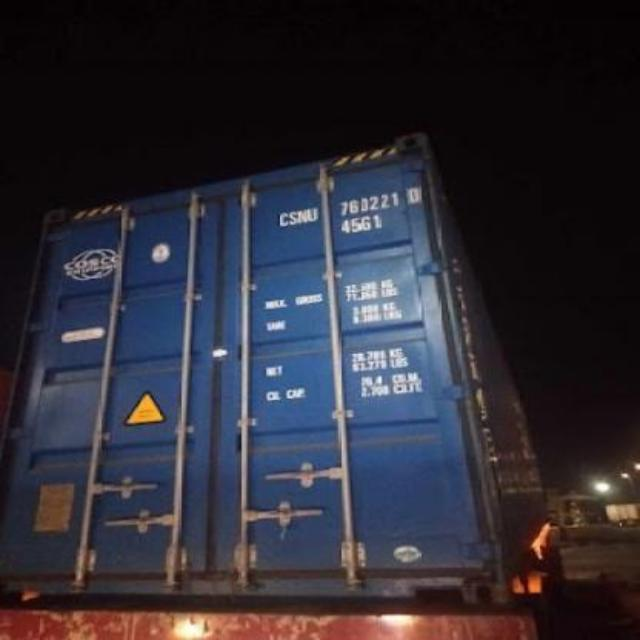0: (358, 198, 370, 212), (408, 188, 420, 202)
1: (390, 192, 400, 208)
2: (370, 195, 380, 211), (380, 195, 390, 207)
6: (350, 201, 360, 213)
7: (338, 200, 350, 216)
C: (278, 212, 290, 228)
N: (298, 209, 308, 225)
S: (290, 212, 298, 224)
U: (308, 208, 318, 222)
